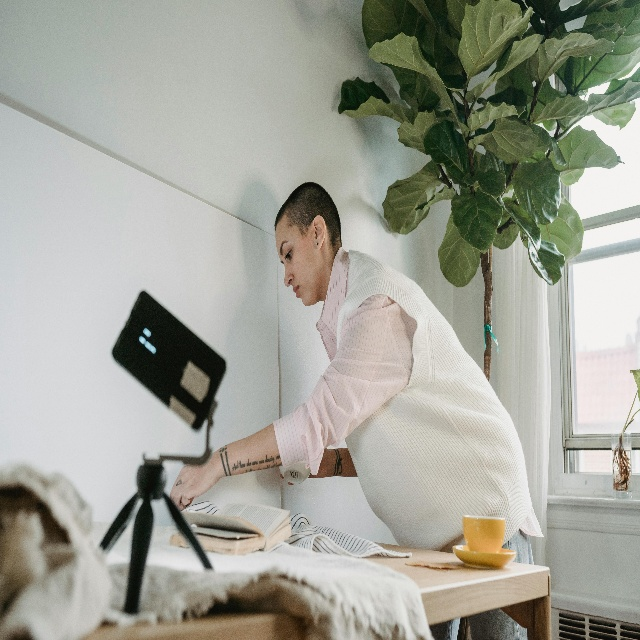Sin_guantes: (170, 454, 222, 511)
